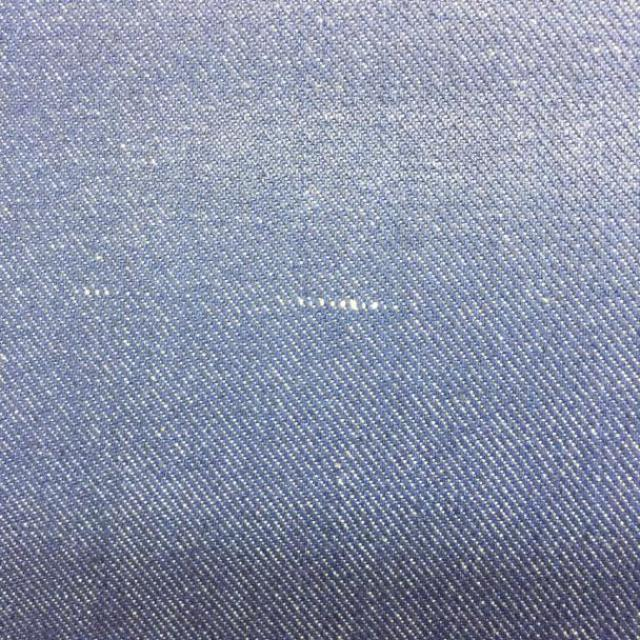Knot: (277, 297, 399, 313), (73, 286, 152, 298)
